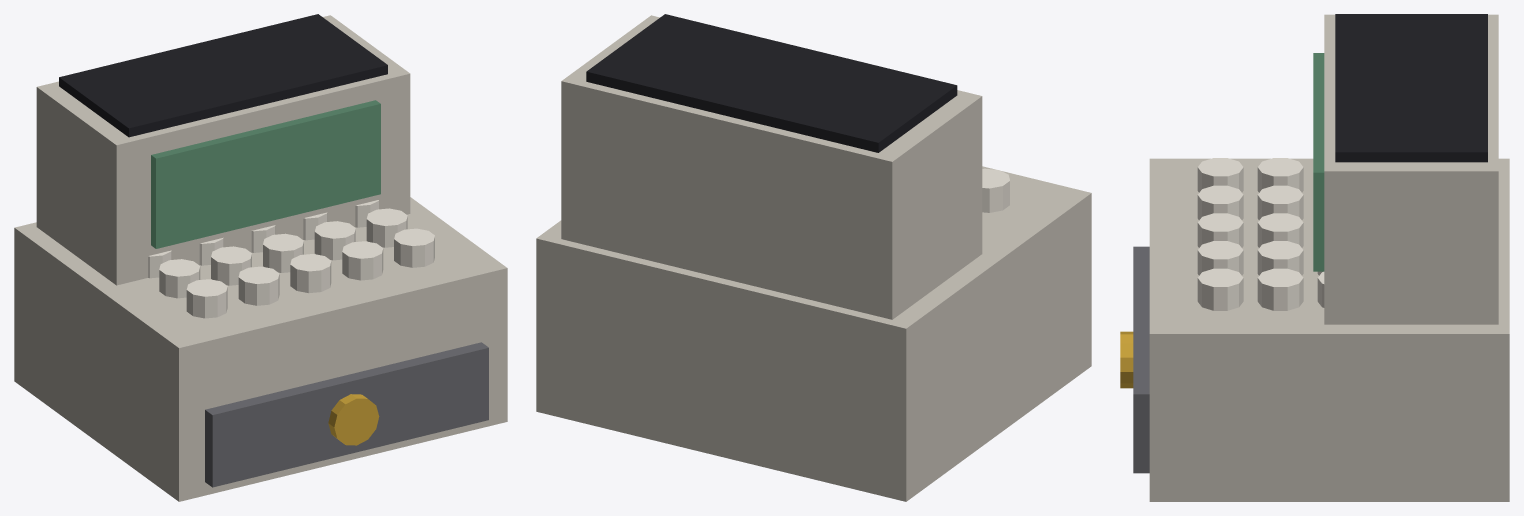
The model's file is cash_register.glb.
The picture shows the model from 3 angles, left to right: view 1: azimuth 30°, elevation 25°; view 2: azimuth 150°, elevation 25°; view 3: azimuth 270°, elevation 25°; orthographic projection. The views are drawn at different scales.
Visible parts, largest first — view 1: cash_register; view 2: cash_register; view 3: cash_register.
Boxes of the visible parts, x1,y1,x2,y2 form: cash_register: (14,14,507,501); cash_register: (536,14,1091,501); cash_register: (1120,14,1509,501).
Size of the model in its own units: 0.38 by 0.335 by 0.357.
